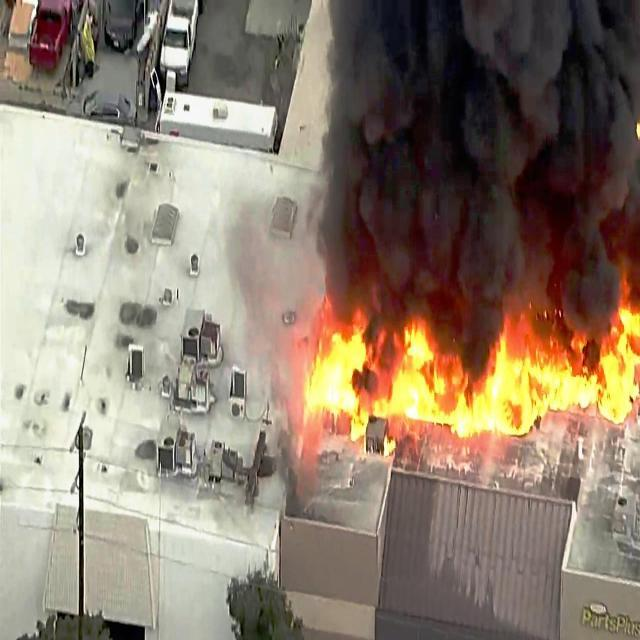Fire: (300, 305, 640, 444)
Smoke: (318, 0, 640, 316)
